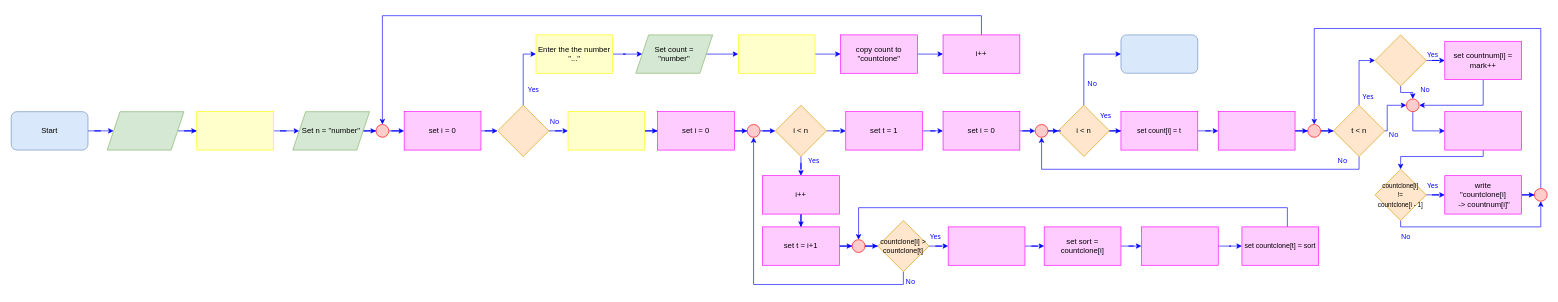
This 1558x302 diagram has some shape labels left out. The shapes that lost their labels are listed below. From the top down, each one's box as (x1, y1, x2, y2) in pixels, then its label:
(738, 34, 815, 73): Your number is "count"
(1120, 34, 1198, 73): End
(1374, 34, 1426, 86): countclone[i] = countclone[t]
(107, 111, 184, 150): i, n = 9, t = 1, sort = 0, mark = 1, count[10], countclone[10], countnum[10]
(196, 111, 274, 150): Enter the maximum array "..."
(497, 105, 549, 156): i < n-1
(567, 111, 645, 150): Your array is have "..."
(1218, 111, 1295, 150): set t = 0
(1444, 111, 1522, 150): set mark = 1
(948, 226, 1025, 265): ++t
(1141, 226, 1218, 265): set countclone[i] = countclone[t]
